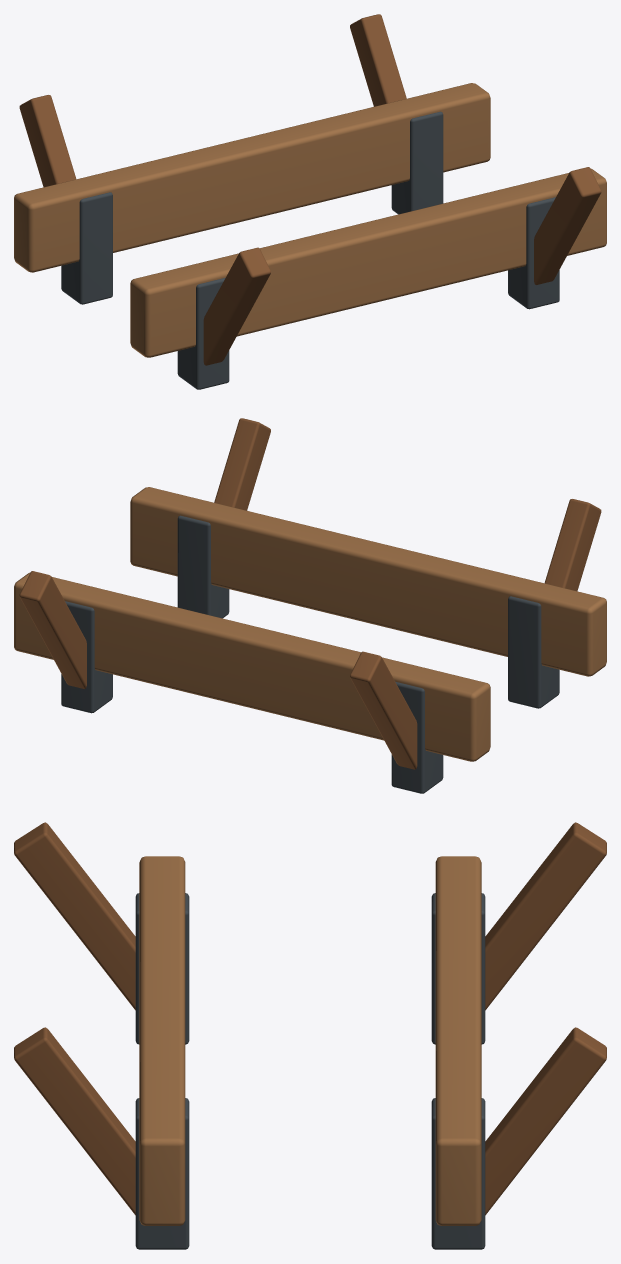
File: tower_wall_mount.glb
The picture shows the model from 3 angles, top to bottom: view 1: azimuth 30°, elevation 25°; view 2: azimuth 150°, elevation 25°; view 3: azimuth 270°, elevation 25°; orthographic projection. The views are drawn at different scales.
Parts seen in each view (by area): view 1: wall_collar_back, wall_collar_front, wall_hook_backL, wall_brace_frontL, wall_brace_frontR, wall_hook_backR, wall_brace_backL, wall_brace_backR, wall_hook_frontL, wall_hook_frontR; view 2: wall_collar_front, wall_collar_back, wall_hook_frontL, wall_brace_backL, wall_brace_backR, wall_hook_frontR, wall_brace_frontL, wall_brace_frontR, wall_hook_backL, wall_hook_backR; view 3: wall_collar_back, wall_collar_front, wall_brace_backL, wall_brace_frontL, wall_brace_backR, wall_brace_frontR, wall_hook_backR, wall_hook_frontR, wall_hook_backL, wall_hook_frontL.
Part boxes in pixels (left/top/right/bottom): wall_collar_back: left=14, top=83, right=490, bottom=272; wall_collar_front: left=130, top=168, right=606, bottom=357; wall_hook_backL: left=61, top=192, right=112, bottom=304; wall_brace_frontL: left=203, top=247, right=270, bottom=365; wall_brace_frontR: left=534, top=167, right=601, bottom=284; wall_hook_backR: left=391, top=111, right=443, bottom=214; wall_brace_backL: left=19, top=95, right=76, bottom=187; wall_brace_backR: left=350, top=14, right=406, bottom=106; wall_hook_frontL: left=177, top=277, right=229, bottom=389; wall_hook_frontR: left=508, top=197, right=559, bottom=309; wall_collar_front: left=130, top=487, right=606, bottom=676; wall_collar_back: left=14, top=572, right=490, bottom=761; wall_hook_frontL: left=508, top=596, right=559, bottom=708; wall_brace_backL: left=350, top=651, right=417, bottom=769; wall_brace_backR: left=19, top=571, right=86, bottom=688; wall_hook_frontR: left=177, top=515, right=229, bottom=618; wall_brace_frontL: left=544, top=499, right=601, bottom=591; wall_brace_frontR: left=214, top=418, right=270, bottom=510; wall_hook_backL: left=391, top=681, right=443, bottom=793; wall_hook_backR: left=61, top=601, right=112, bottom=713; wall_collar_back: left=435, top=856, right=481, bottom=1225; wall_collar_front: left=139, top=856, right=185, bottom=1225; wall_brace_backL: left=485, top=822, right=606, bottom=1010; wall_brace_frontL: left=14, top=822, right=135, bottom=1010; wall_brace_backR: left=485, top=1027, right=606, bottom=1215; wall_brace_frontR: left=14, top=1027, right=135, bottom=1215; wall_hook_backR: left=431, top=1098, right=485, bottom=1249; wall_hook_frontR: left=135, top=1098, right=189, bottom=1249; wall_hook_backL: left=431, top=893, right=485, bottom=1044; wall_hook_frontL: left=135, top=893, right=189, bottom=1044.
Size of the model in its own units: 2.66 by 0.9004 by 2.32.
